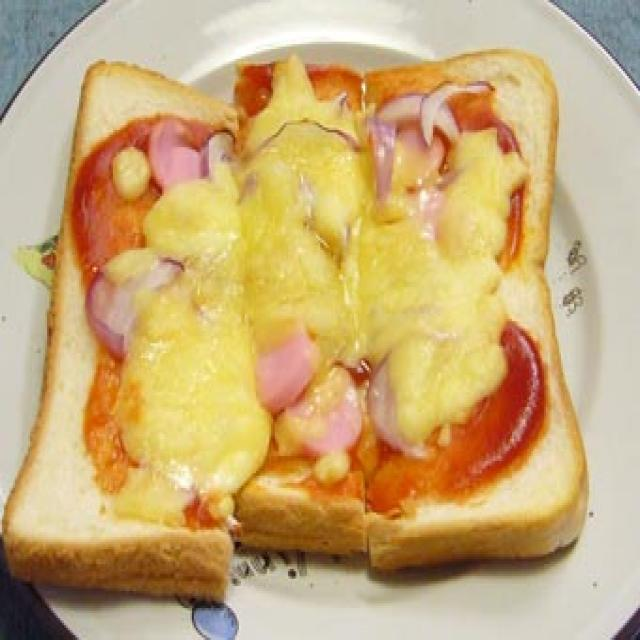面包点心: (4, 0, 632, 618)
